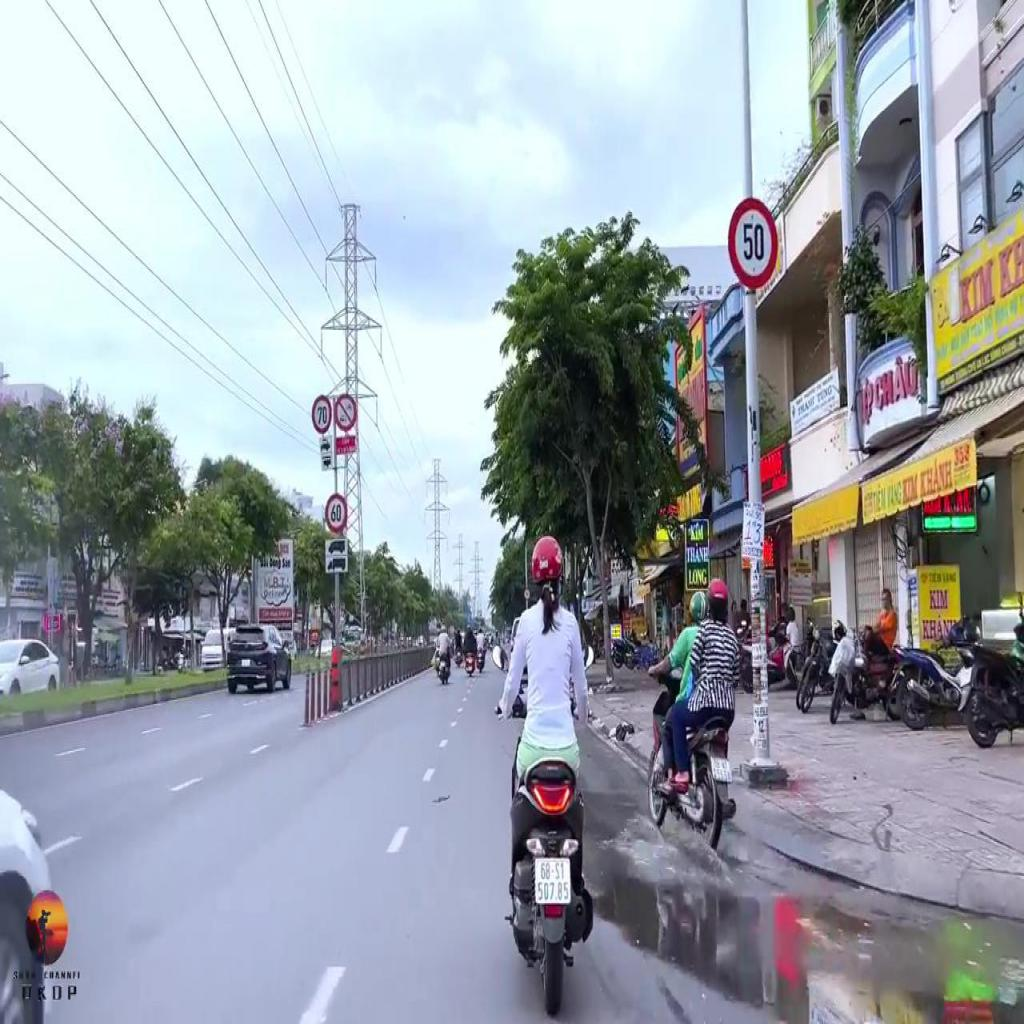cam_xe_2_banh_va_xe_3_banh_co_dong_co: (334, 392, 358, 432)
khac: (310, 394, 333, 434), (326, 556, 348, 573), (326, 539, 348, 556), (320, 452, 334, 471), (320, 435, 333, 454)
toc_do_toi_da_50: (727, 195, 779, 289)
toc_do_toi_da_60: (326, 494, 348, 534)
